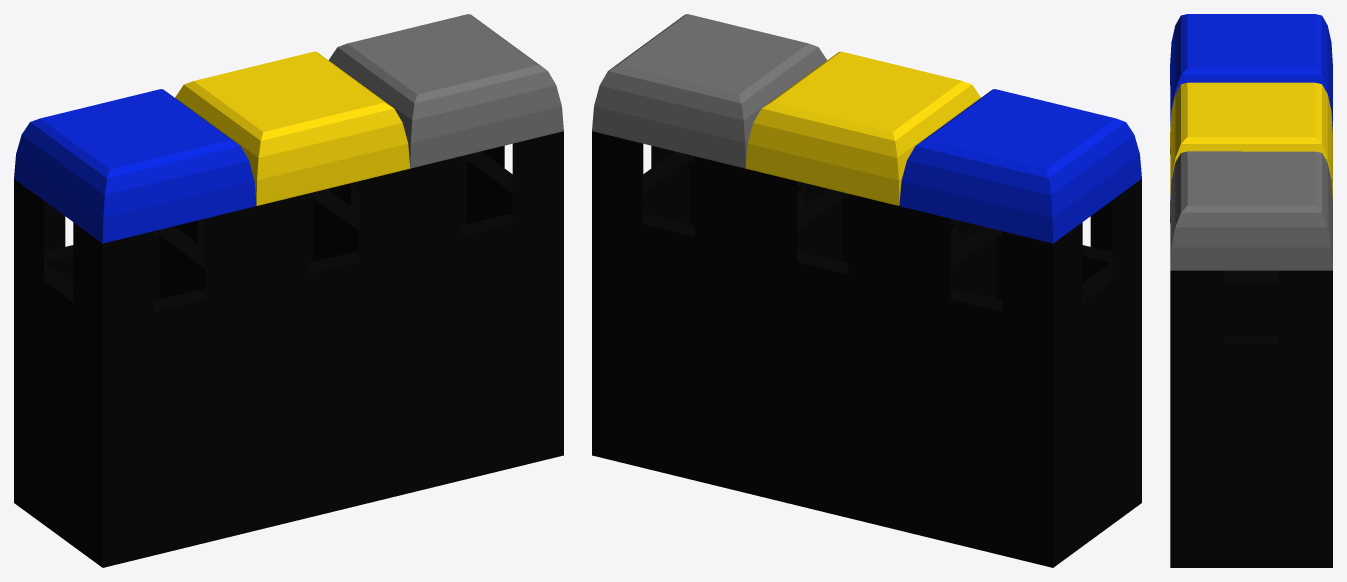
Rendered from Mülleimer.fbx.
3 renders of one model, left to right at view 1: azimuth 30°, elevation 25°; view 2: azimuth 150°, elevation 25°; view 3: azimuth 270°, elevation 25°, orthographic. The views are drawn at different scales.
Visible parts, largest first — view 1: Cube; view 2: Cube; view 3: Cube.
Boxes of the visible parts, left/top/right/bottom form: Cube: left=14, top=14, right=563, bottom=567; Cube: left=592, top=14, right=1141, bottom=567; Cube: left=1170, top=14, right=1332, bottom=567.
Size of the model in its own units: 0.4347 by 0.3491 by 0.145.
